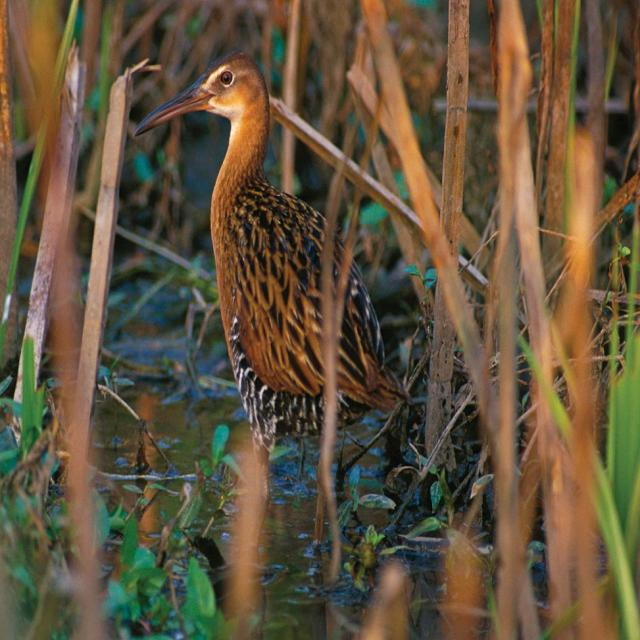bird: (132, 54, 422, 452)
